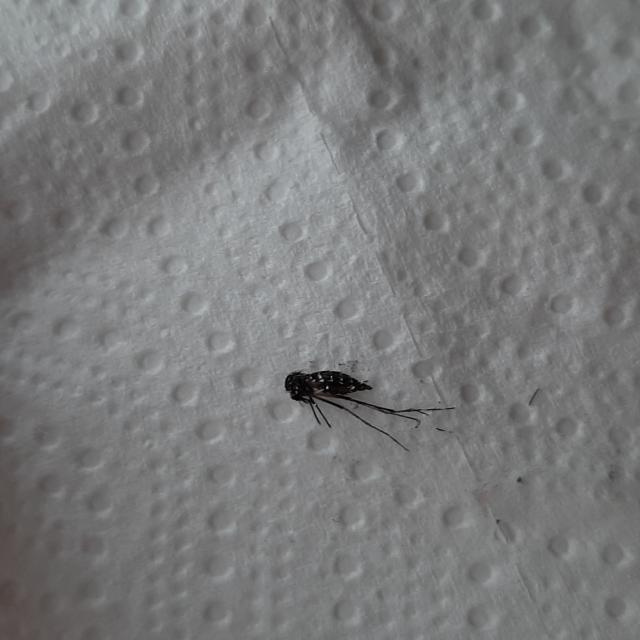albopictus: (277, 350, 451, 453)
